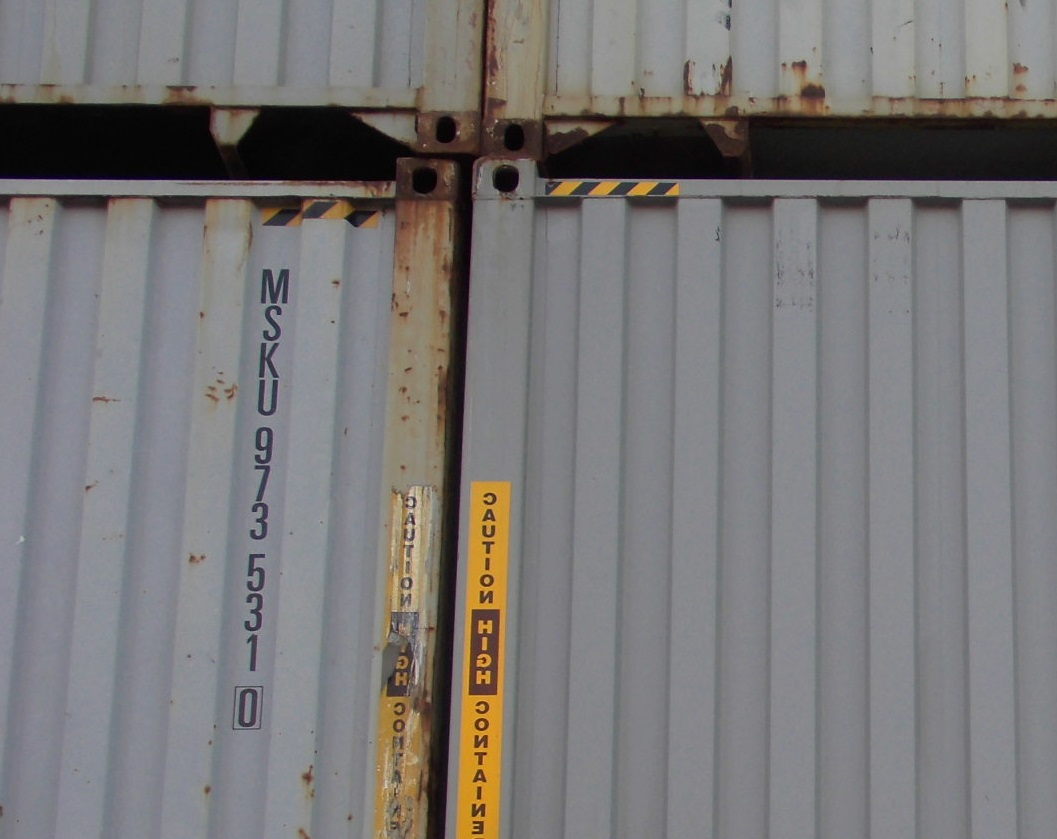container_no_door: (471, 153, 1052, 839), (1, 155, 459, 839)
